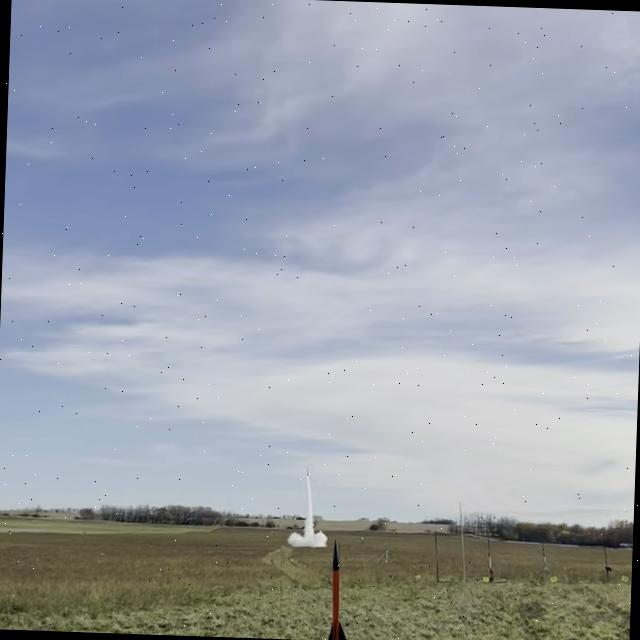smoke_trail_with_rocket: (286, 484, 325, 547)
